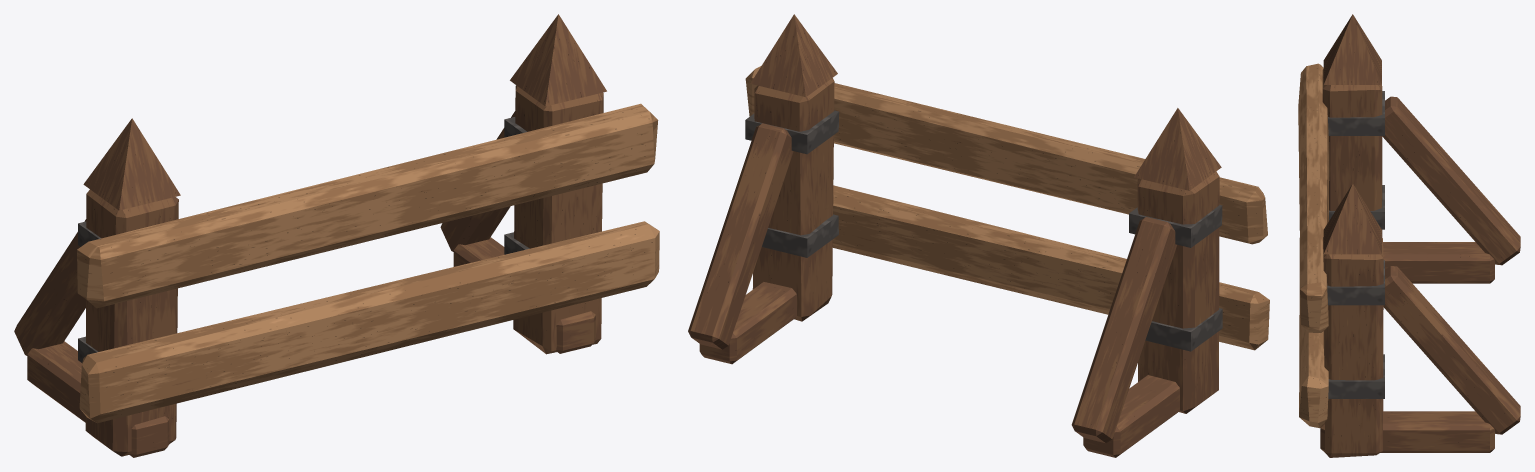
The model's file is wooden_barricade.glb.
3 views of the same model, side by side, from view 1: azimuth 30°, elevation 25°; view 2: azimuth 150°, elevation 25°; view 3: azimuth 270°, elevation 25° (orthographic). The views are drawn at different scales.
Parts seen in each view (by area): view 1: wooden_barricade_crossbeams, wooden_barricade_posts, wooden_barricade_rear_braces, wooden_barricade_iron_bands; view 2: wooden_barricade_crossbeams, wooden_barricade_posts, wooden_barricade_rear_braces, wooden_barricade_iron_bands; view 3: wooden_barricade_rear_braces, wooden_barricade_posts, wooden_barricade_crossbeams, wooden_barricade_iron_bands.
Part boxes in pixels (x1=…): wooden_barricade_crossbeams: x1=77, y1=103, x2=659, y2=423; wooden_barricade_posts: x1=83, y1=14, x2=606, y2=456; wooden_barricade_rear_braces: x1=14, y1=111, x2=595, y2=457; wooden_barricade_iron_bands: x1=78, y1=117, x2=529, y2=362; wooden_barricade_crossbeams: x1=745, y1=66, x2=1269, y2=350; wooden_barricade_posts: x1=750, y1=14, x2=1221, y2=413; wooden_barricade_rear_braces: x1=688, y1=123, x2=1179, y2=457; wooden_barricade_iron_bands: x1=745, y1=110, x2=1222, y2=351; wooden_barricade_rear_braces: x1=1320, y1=96, x2=1520, y2=452; wooden_barricade_posts: x1=1322, y1=14, x2=1383, y2=457; wooden_barricade_crossbeams: x1=1298, y1=63, x2=1329, y2=428; wooden_barricade_iron_bands: x1=1327, y1=91, x2=1384, y2=398.
Size of what is drawn, in the model's own units: 1.67 by 0.9045 by 0.6885.
Materials: 3 (3 with a texture image).
